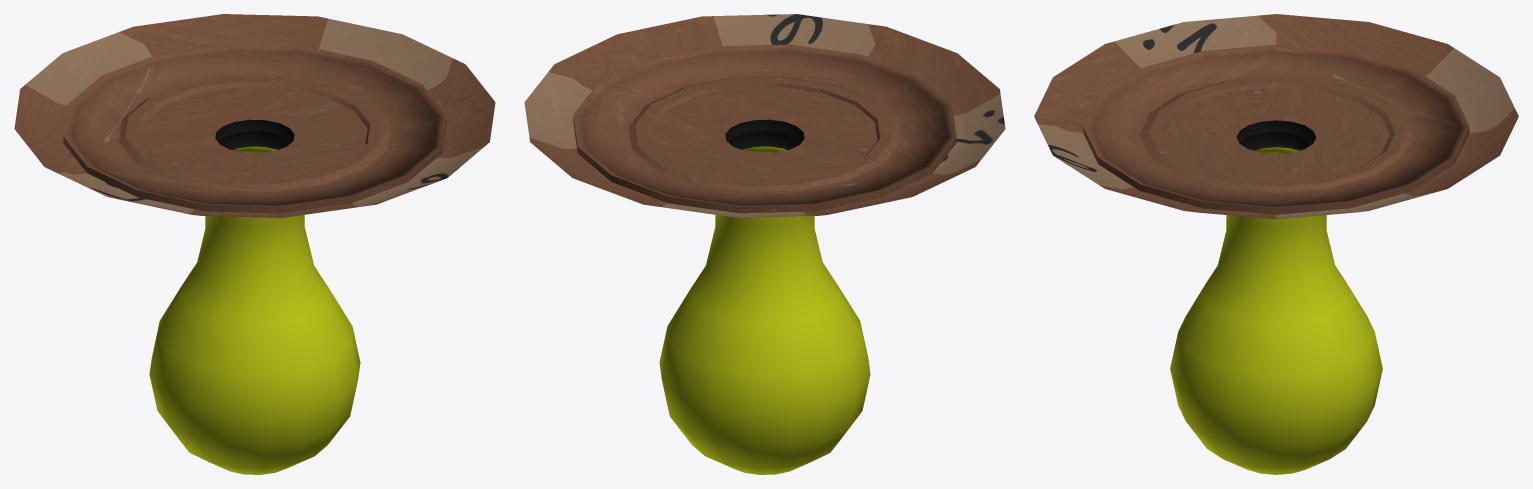
File: SM_Ampoule.fbx
The picture shows the model from 3 angles, left to right: view 1: azimuth 30°, elevation 25°; view 2: azimuth 150°, elevation 25°; view 3: azimuth 270°, elevation 25°; orthographic projection.
Parts seen in each view (by area): view 1: SM_Ampoule; view 2: SM_Ampoule; view 3: SM_Ampoule.
Boxes of the visible parts, left/top/right/bottom form: SM_Ampoule: left=14, top=14, right=495, bottom=474; SM_Ampoule: left=524, top=14, right=1005, bottom=474; SM_Ampoule: left=1034, top=14, right=1518, bottom=474.
Size of the model in its own units: 0.2255 by 0.1789 by 0.2255.
